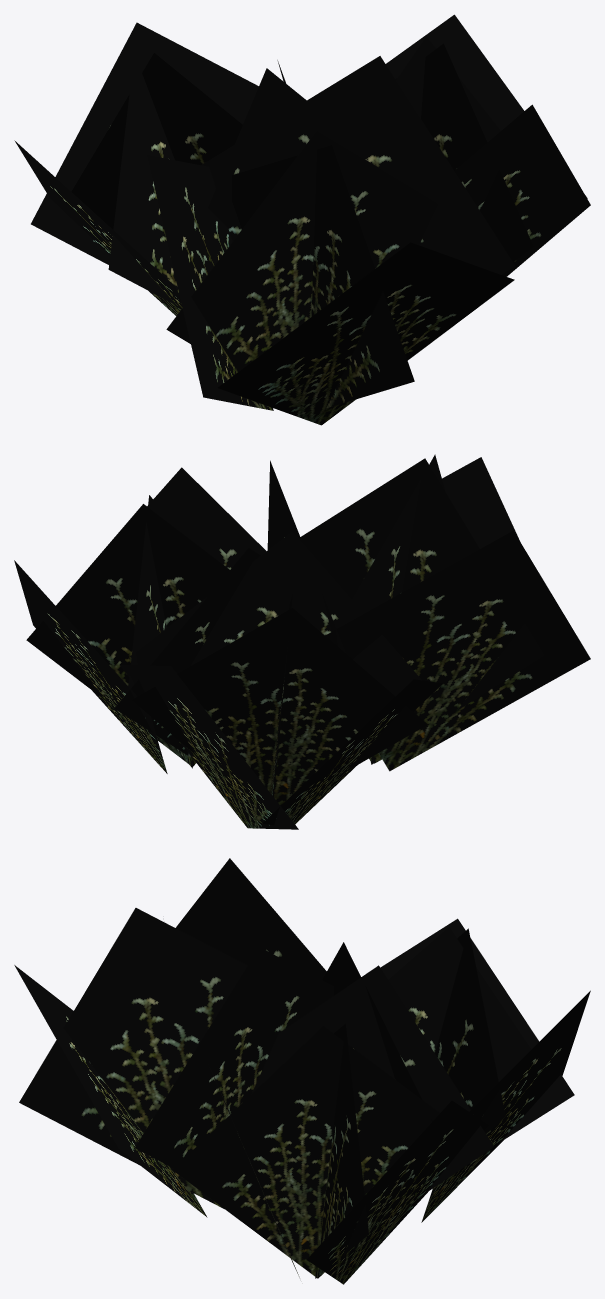
The model's file is OZ_02_mi_grass04B.glb.
3 renders of one model, top to bottom at view 1: azimuth 30°, elevation 25°; view 2: azimuth 150°, elevation 25°; view 3: azimuth 270°, elevation 25°, orthographic. The views are drawn at different scales.
Visible parts, largest first — view 1: OM_02_mi_grass04B; view 2: OM_02_mi_grass04B; view 3: OM_02_mi_grass04B.
Boxes of the visible parts, <box> form: OM_02_mi_grass04B: <box>14,14,590,425</box>; OM_02_mi_grass04B: <box>14,454,590,829</box>; OM_02_mi_grass04B: <box>14,858,590,1284</box>.
Size of the model in its own units: 3.04 by 1.93 by 3.25.
1 material, 1 textured.
